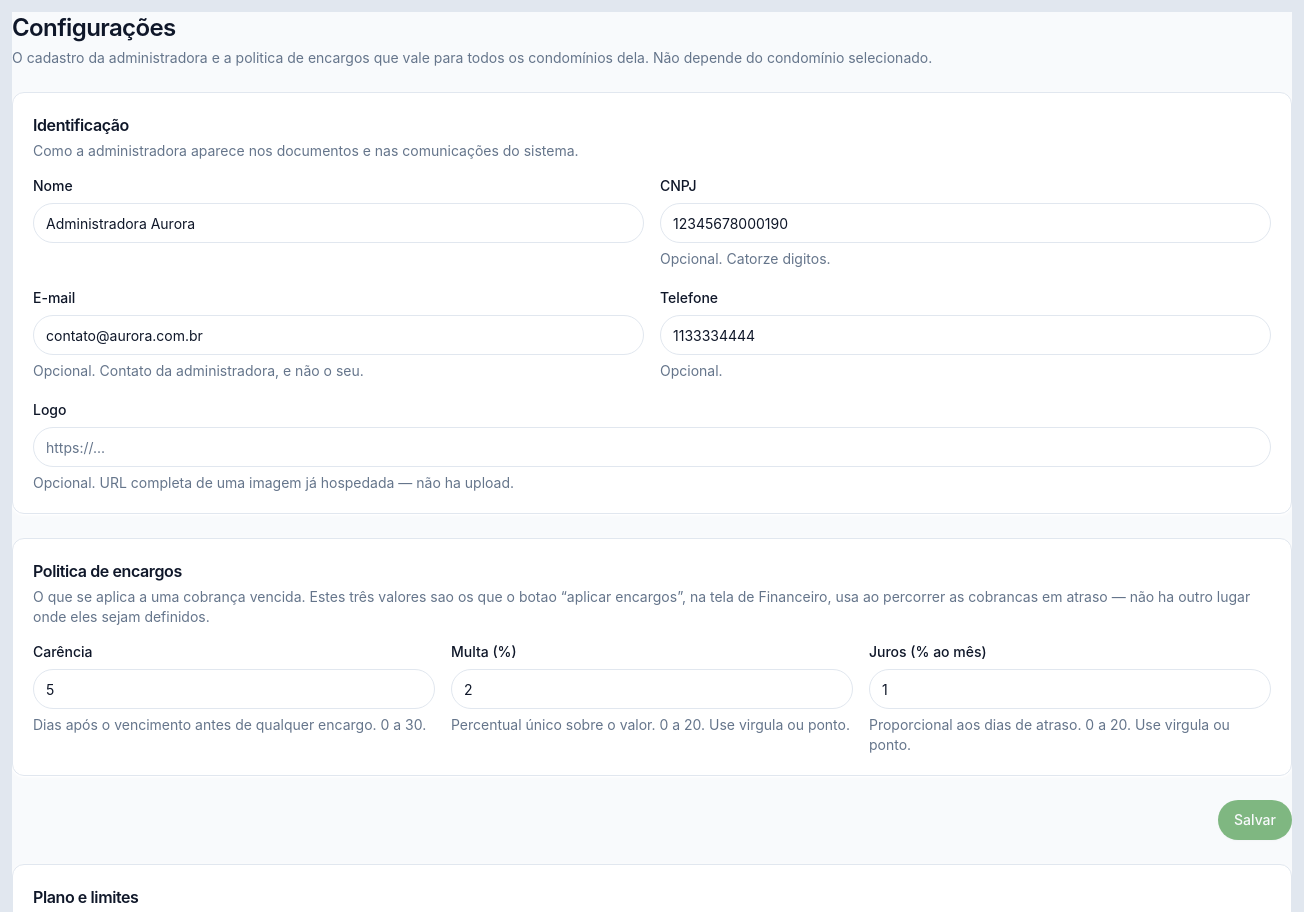
Scenario: Validação › carência fora de 0 a 30 e barrada antes de chegar ao servidor
Replace the text in the number field labelled "Carência" with "45" at x=234, y=689, box [33,669,435,709]
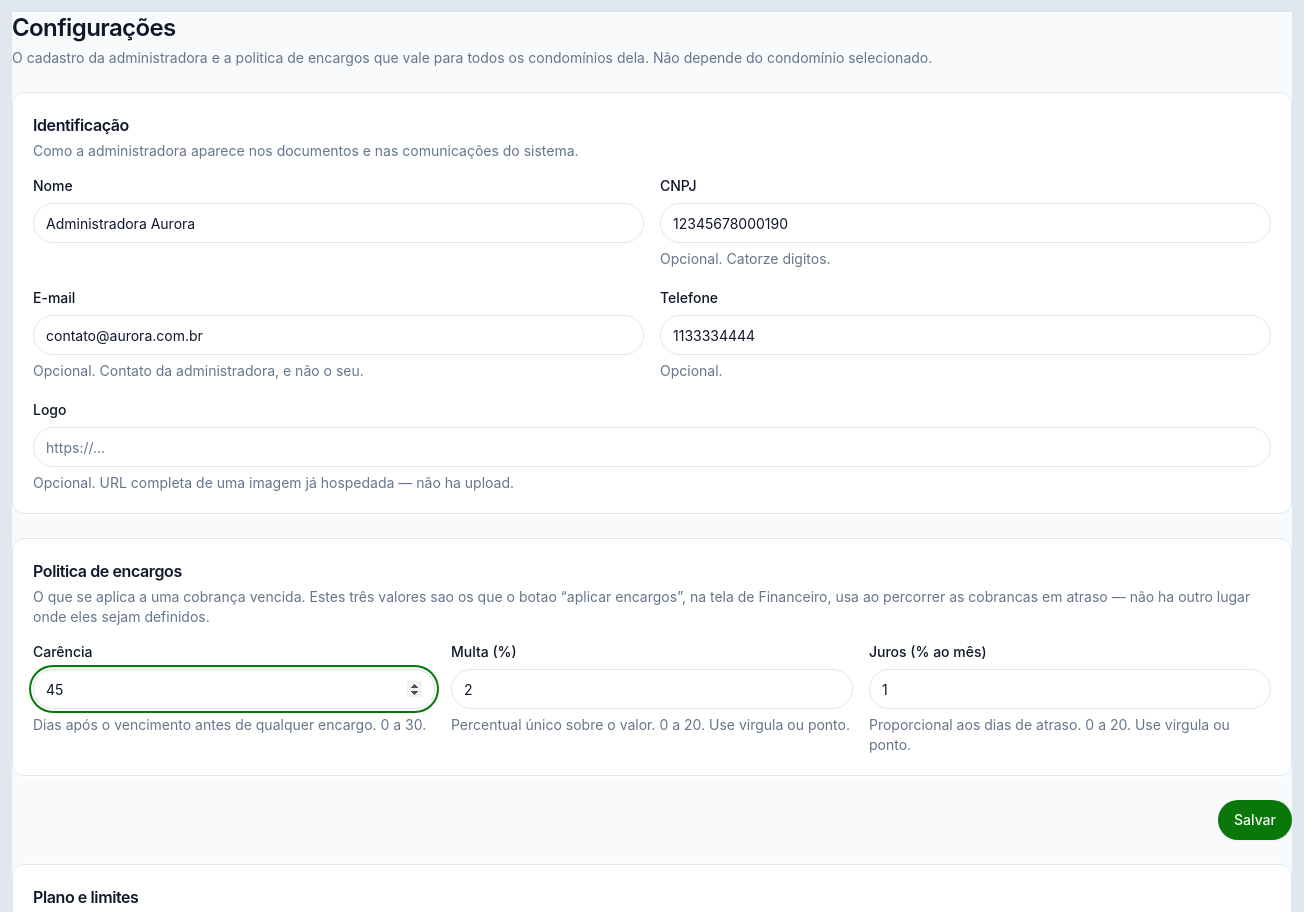
Click the button "Salvar" at x=1255, y=820, box [1218,800,1292,840]
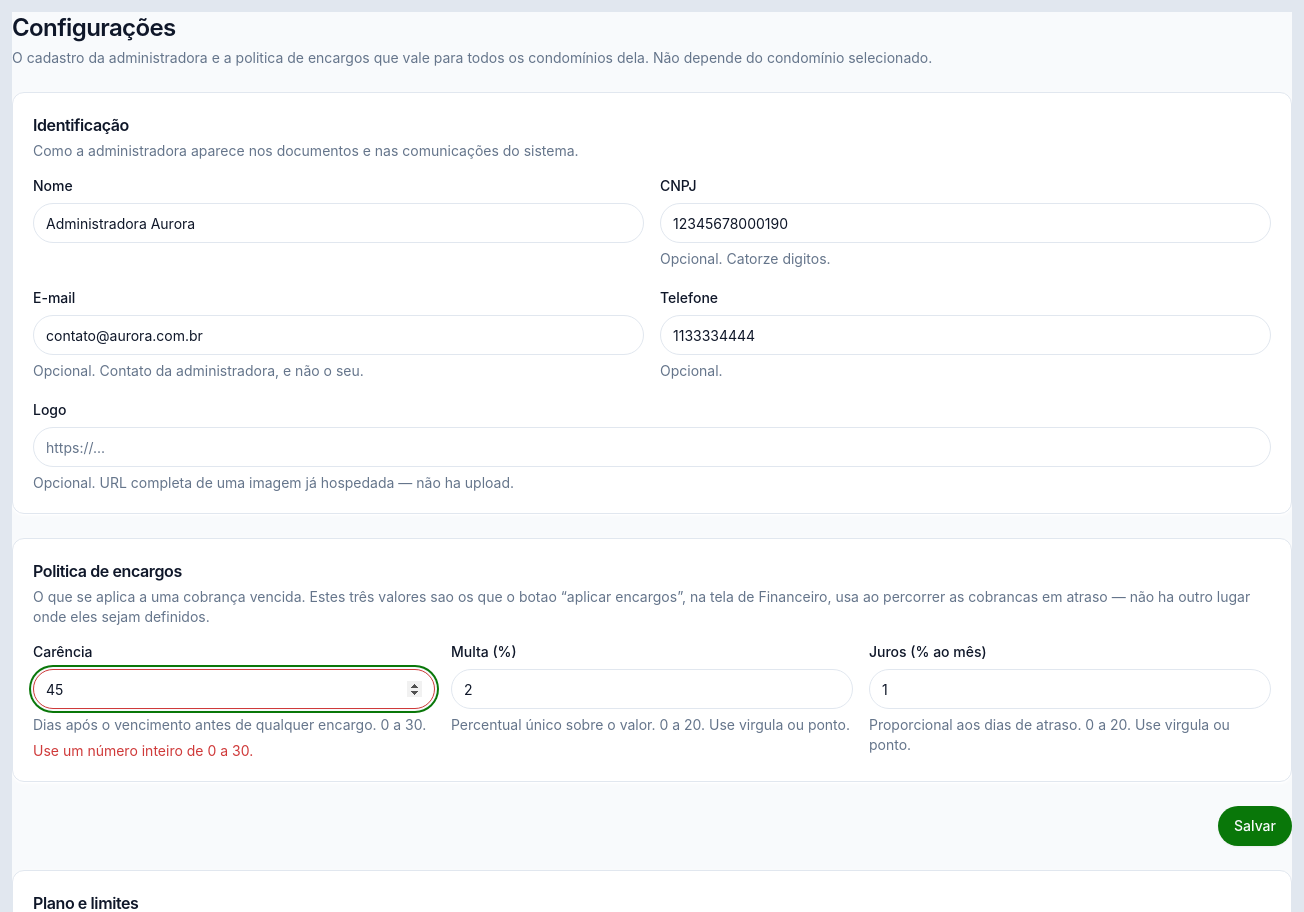
Expected: the text "Use um número inteiro de 0 a 30." is shown, [33,742,253,759]
